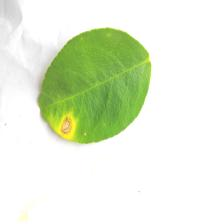canker: (51, 85, 86, 143)
